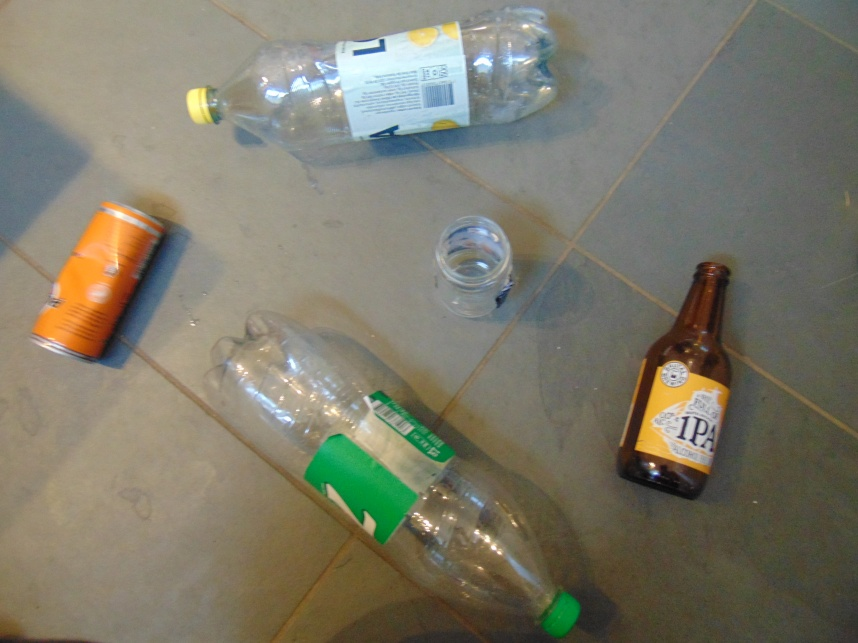glass_bottle: (614, 261, 735, 501), (428, 216, 513, 319)
metal_can: (30, 199, 166, 365)
plastic_bottle: (201, 307, 580, 636), (184, 5, 566, 153)
